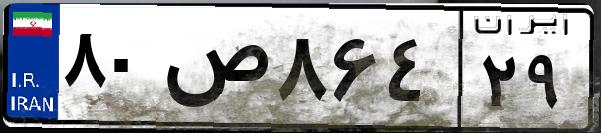0: (110, 28, 158, 98)
2: (475, 38, 525, 113)
4: (385, 28, 445, 110)
6: (330, 28, 385, 110)
8: (270, 28, 330, 110), (57, 26, 110, 100)
9: (525, 38, 570, 115)
ص: (158, 20, 270, 120)
